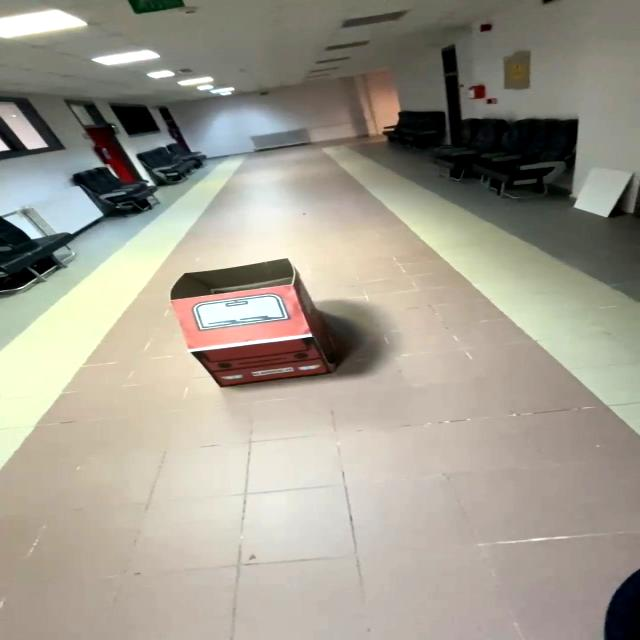red_car: (160, 242, 354, 406)
